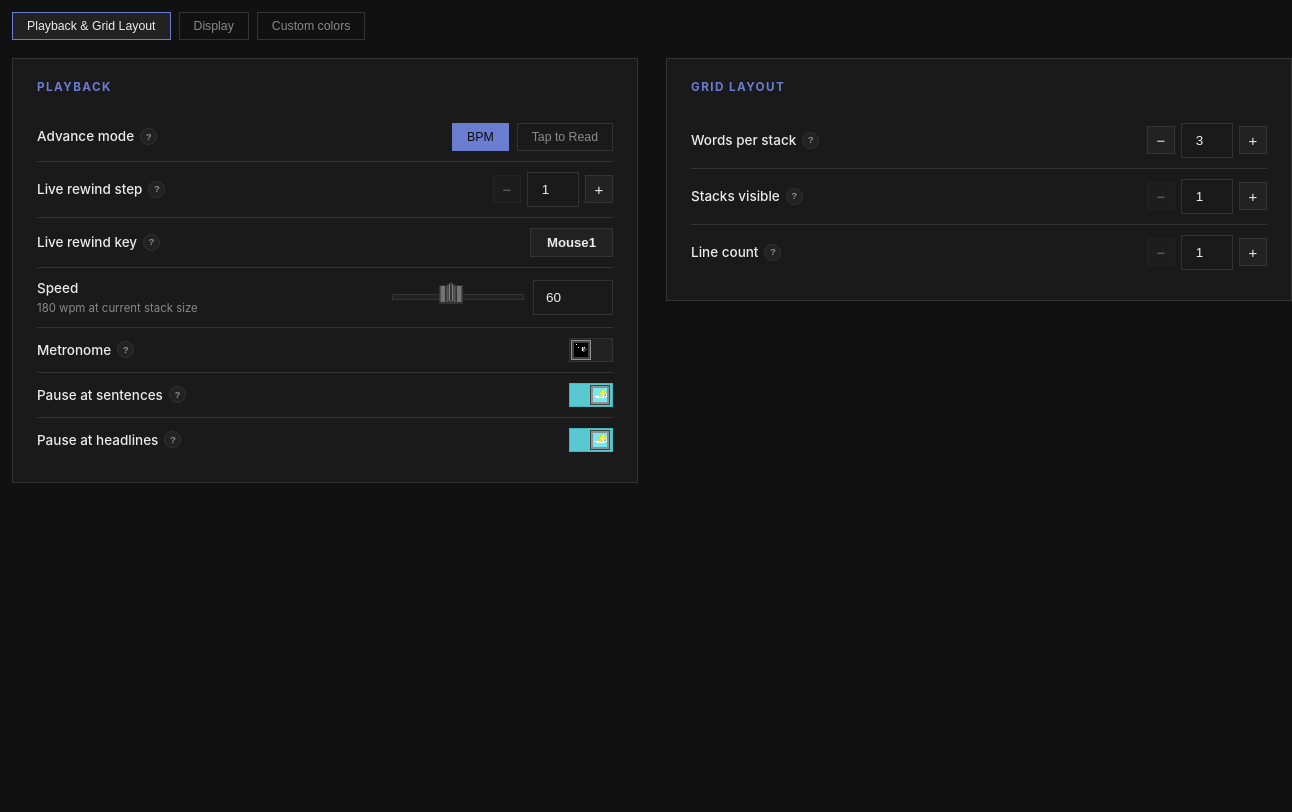
Test: ReaderSettingsEditor — Settings host › omits the preview affordance when the host flag is off (drawer host, SR-4)
Expected: the element with class "rse-columns" is shown, [12,58,1291,503]
Click the tab "Display".
click(214, 26)  # box [178,12,249,40]
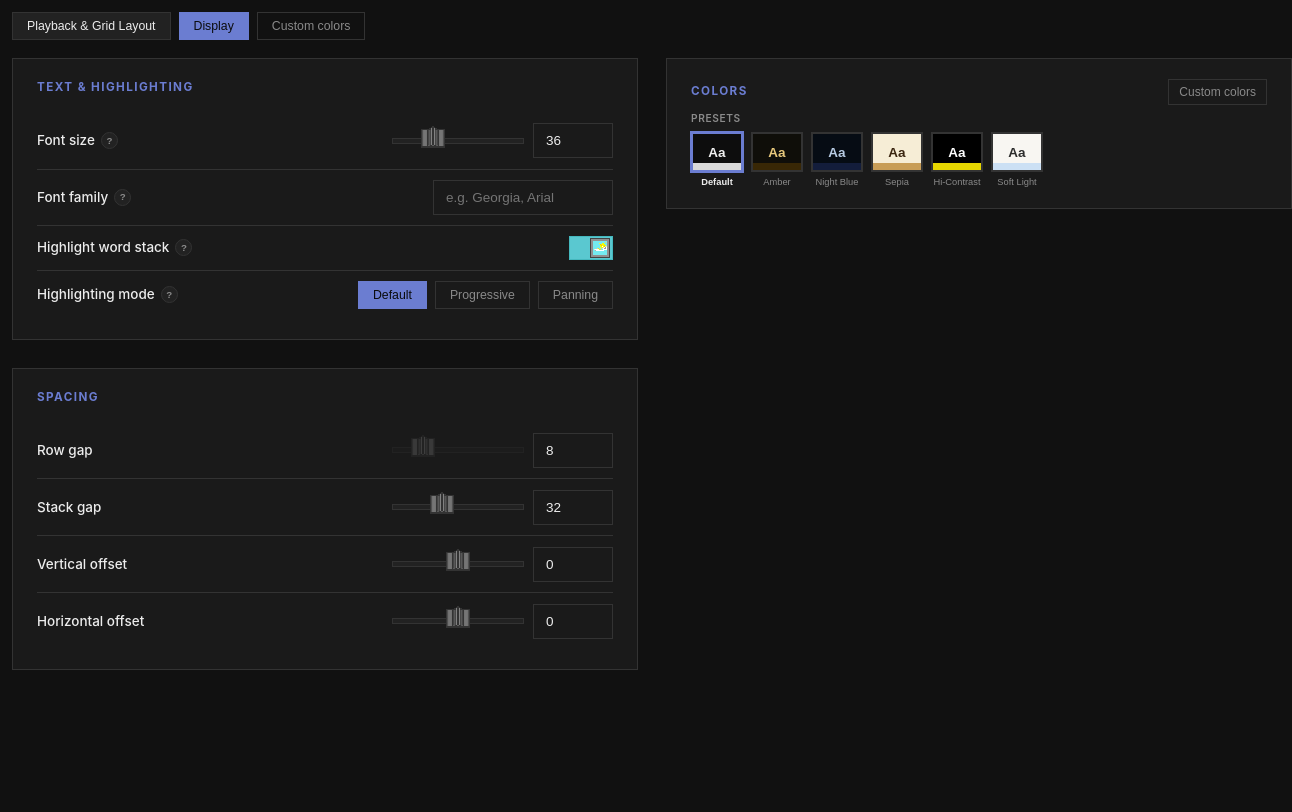
Expected: the number of elements with class "settings-section" is 3, [12,58,638,340]; [12,368,638,670]; [666,58,1291,210]
